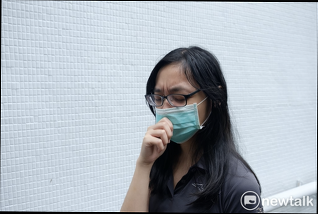with_mask: (151, 84, 205, 146)
